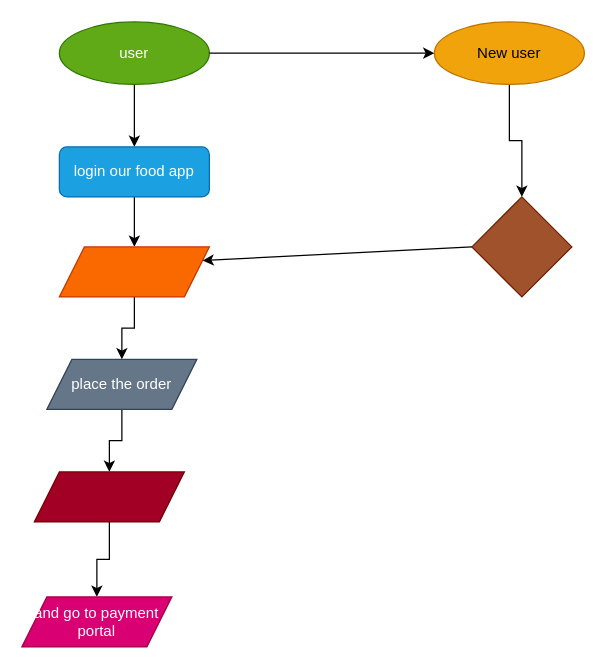
The diagram is 606 pixels wide and 669 high, and some of its shapes have lost their labels. The shapes that lost their labels are listed below. From the top down, each one's box as (x1, y1, x2, y2) in pixels, then its label:
(471, 196, 572, 297): give your details
(58, 246, 209, 297): select your items
(33, 471, 184, 522): give your name and address
